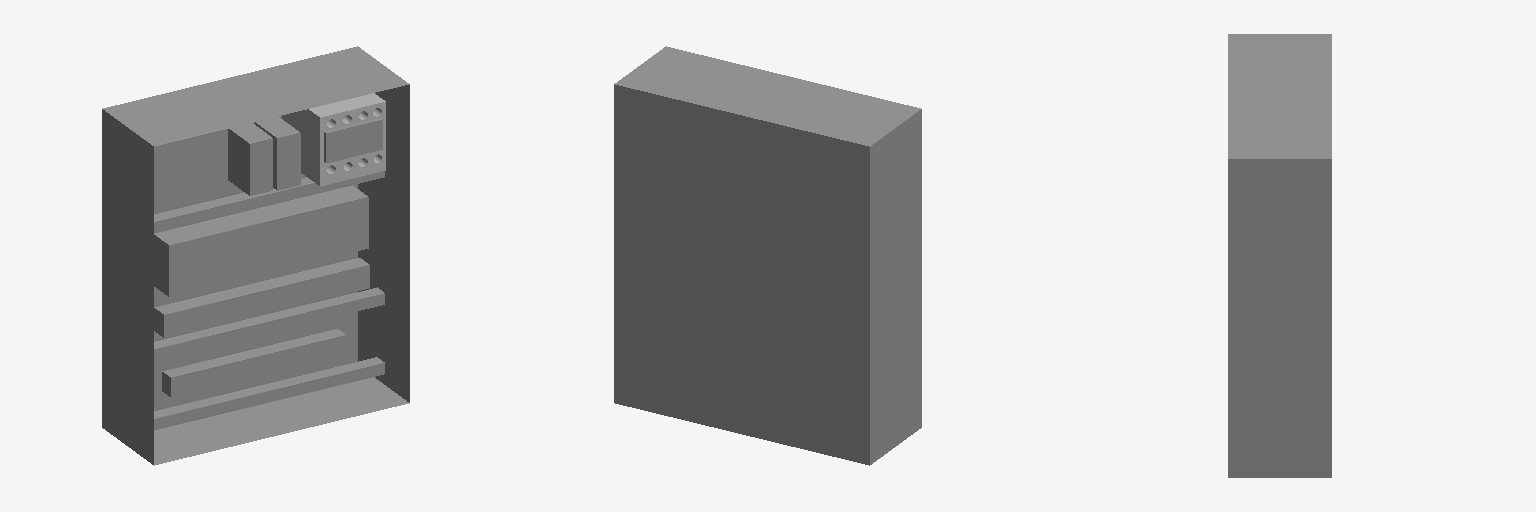
File: arm.obj
3 renders of one model, left to right at view 1: azimuth 30°, elevation 25°; view 2: azimuth 150°, elevation 25°; view 3: azimuth 270°, elevation 25°, orthographic.
Visible parts, largest first — view 1: Cube.005_Cube.010, Cube.006, Cube.002_Cube.011, Cube.004_Cube.009, Cube.001, Cube.000_Cube.008, Cube.008_Cube.012, Cube.009_Cube.013, Cube.007, Cube.003, Cube_Cube.014; view 2: Cube.005_Cube.010; view 3: Cube.005_Cube.010.
Boxes of the visible parts, x1=… form: Cube.005_Cube.010: x1=102, y1=46, x2=409, y2=465; Cube.006: x1=154, y1=185, x2=368, y2=296; Cube.002_Cube.011: x1=154, y1=258, x2=369, y2=337; Cube.004_Cube.009: x1=162, y1=329, x2=345, y2=397; Cube.001: x1=282, y1=93, x2=385, y2=186; Cube.000_Cube.008: x1=154, y1=287, x2=384, y2=360; Cube.008_Cube.012: x1=154, y1=357, x2=384, y2=430; Cube.009_Cube.013: x1=154, y1=171, x2=384, y2=233; Cube.007: x1=228, y1=123, x2=272, y2=195; Cube.003: x1=255, y1=116, x2=300, y2=190; Cube_Cube.014: x1=324, y1=118, x2=382, y2=162; Cube.005_Cube.010: x1=614, y1=46, x2=921, y2=465; Cube.005_Cube.010: x1=1228, y1=34, x2=1331, y2=477.
Size of the model in its own units: 5.83 by 6.95 by 2.05.